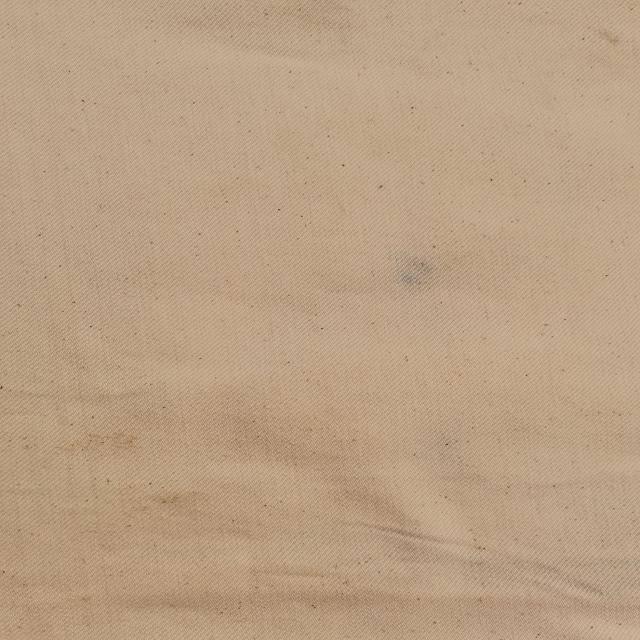taaaches: (376, 245, 462, 307), (65, 422, 147, 453), (151, 478, 205, 511)
